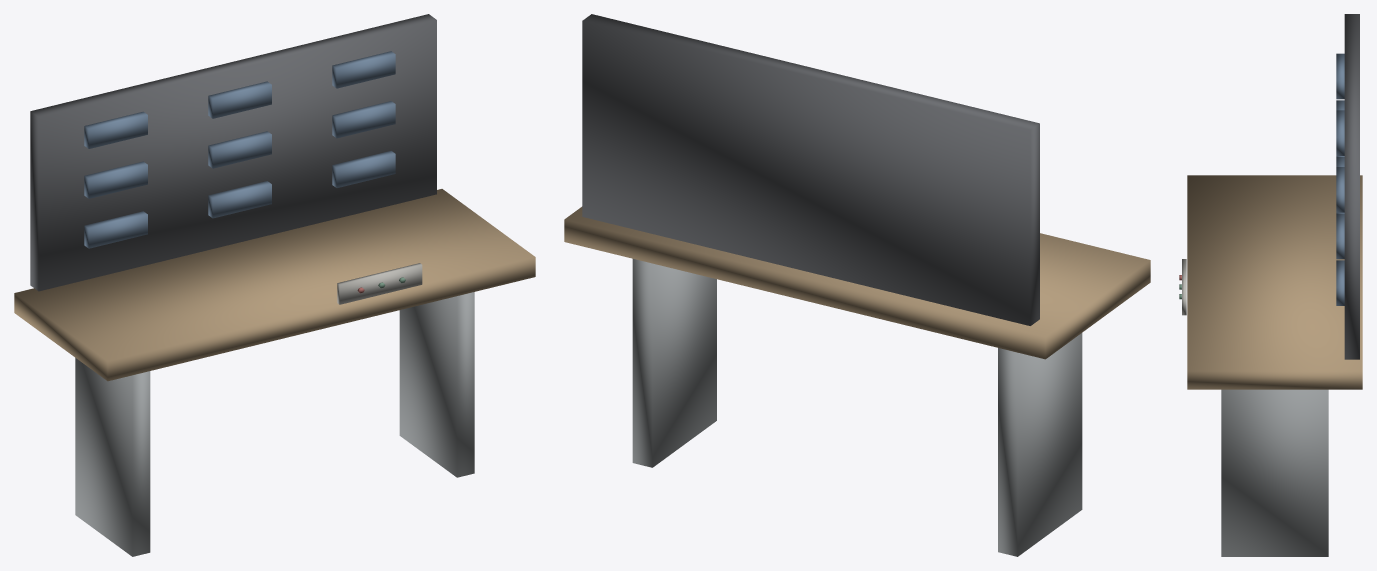
The model's file is electronics_repair_bench__wide.glb.
3 views of the same model, side by side, from view 1: azimuth 30°, elevation 25°; view 2: azimuth 150°, elevation 25°; view 3: azimuth 270°, elevation 25° (orthographic). The views are drawn at different scales.
Parts seen in each view (by area): view 1: world; view 2: world; view 3: world.
Part boxes in pixels (<box>): world: <box>14,14,535,556</box>; world: <box>564,14,1150,556</box>; world: <box>1179,14,1362,556</box>.
Bounding box in the file's own units: 1.8 × 1.6 × 0.711.
